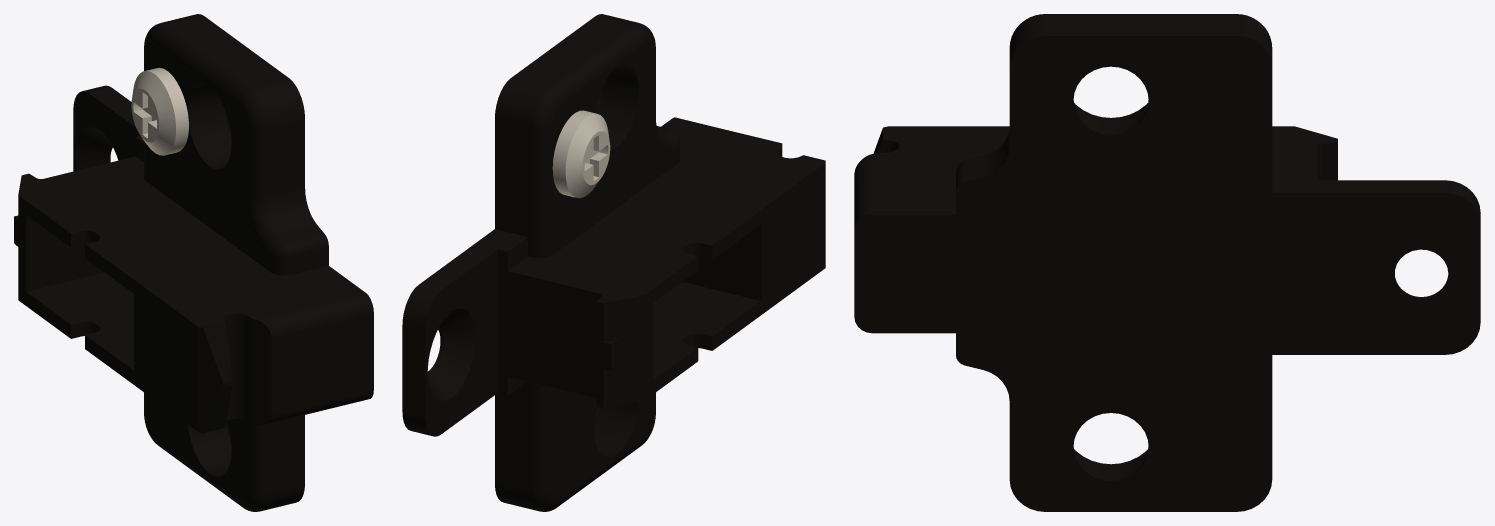
The picture shows the model from 3 angles, left to right: view 1: azimuth 30°, elevation 25°; view 2: azimuth 150°, elevation 25°; view 3: azimuth 270°, elevation 25°; orthographic projection. The views are drawn at different scales.
Visible parts, largest first — view 1: bau0006173238; view 2: bau0006173238; view 3: bau0006173238.
Boxes of the visible parts, box(x1,y1,x2,y2) form: bau0006173238: box(14, 14, 373, 511); bau0006173238: box(402, 14, 825, 511); bau0006173238: box(854, 14, 1480, 511).
Size of the model in its own units: 17.5 by 44 by 52.45.
